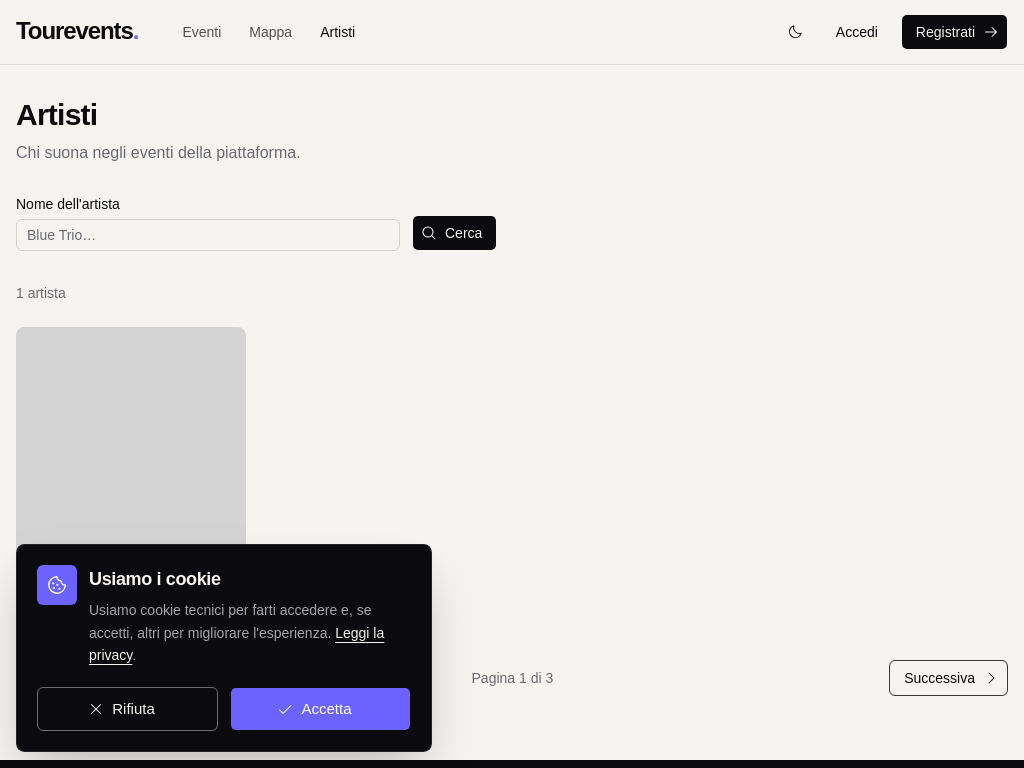
Test case: ArtistsPage › paginazione: "Successiva" chiede la pagina dopo
The width and height of the screenshot is (1024, 768).
Expected: the text "Pagina 1 di 3" is shown, [472,668,553,688]
Click the button "Successiva". click: (949, 678)
box: [889,660,1008,696]
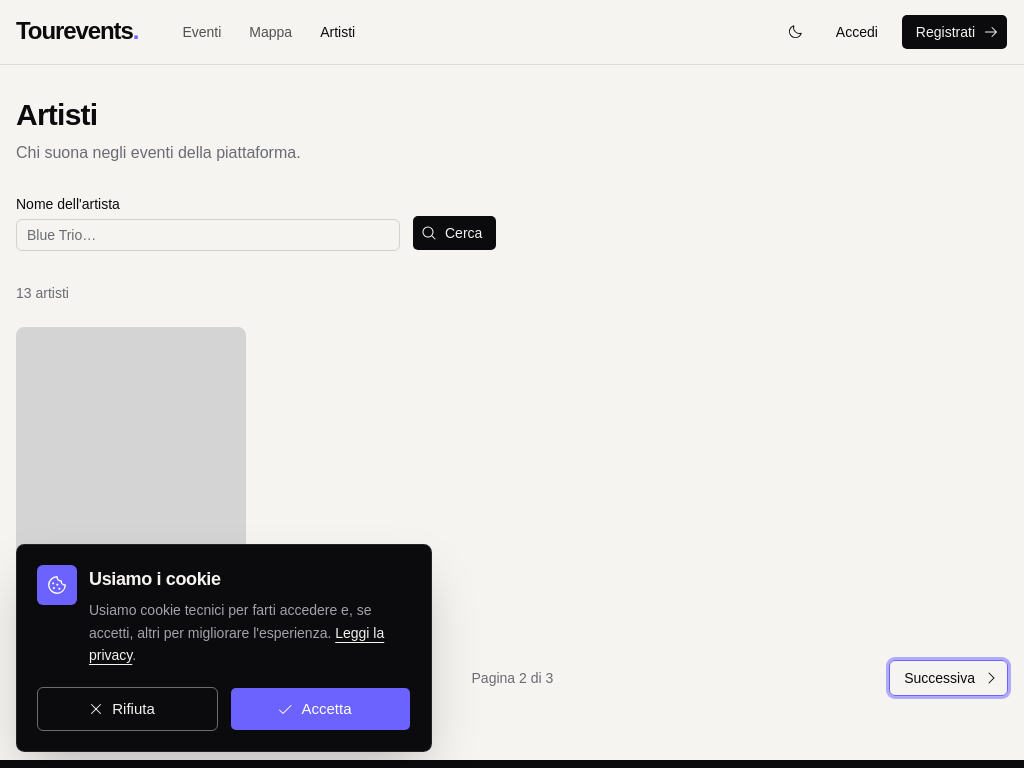
Expected: the text "Pagina 2 di 3" is shown, [472,668,553,688]
